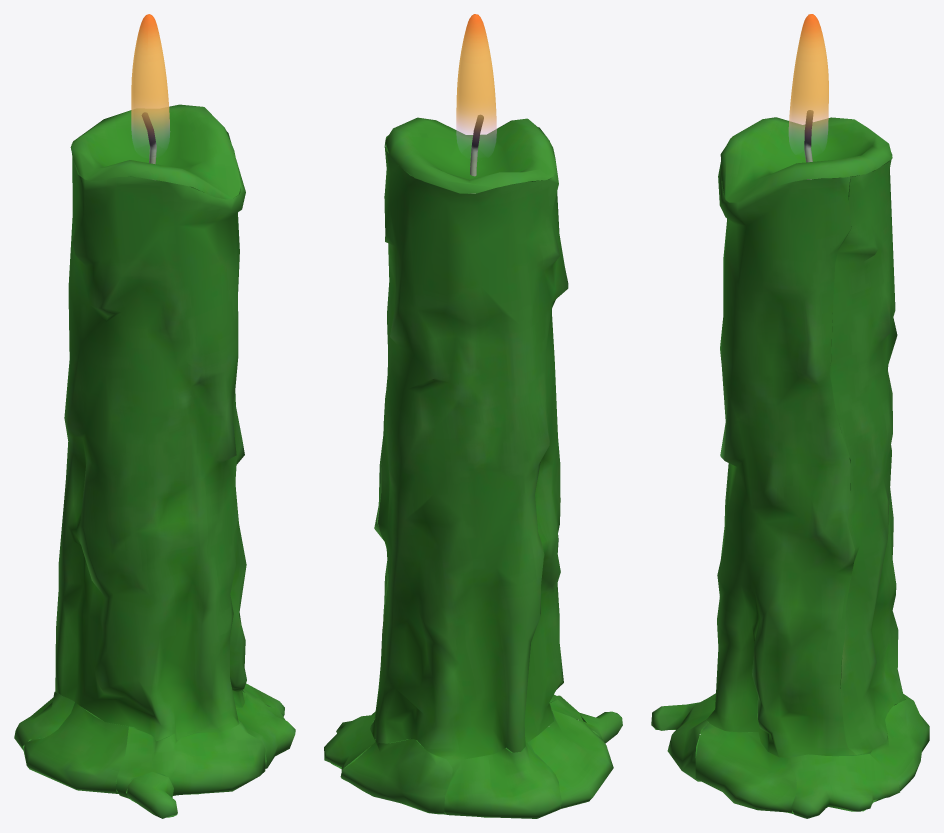
Rendered from EcclesiasticalTall.glb.
3 views of the same model, side by side, from view 1: azimuth 30°, elevation 25°; view 2: azimuth 150°, elevation 25°; view 3: azimuth 270°, elevation 25° (orthographic). The views are drawn at different scales.
Parts seen in each view (by area): view 1: XBase, Flame; view 2: XBase, Flame; view 3: XBase, Flame.
Part boxes in pixels (<box>): XBase: <box>14,104,295,818</box>; Flame: <box>131,14,169,146</box>; XBase: <box>324,117,622,818</box>; Flame: <box>456,14,496,149</box>; XBase: <box>651,117,929,818</box>; Flame: <box>788,14,828,147</box>.
Bounding box in the file's own units: 1.12 × 3.1 × 1.06.
Materials: 2 (2 with a texture image).
